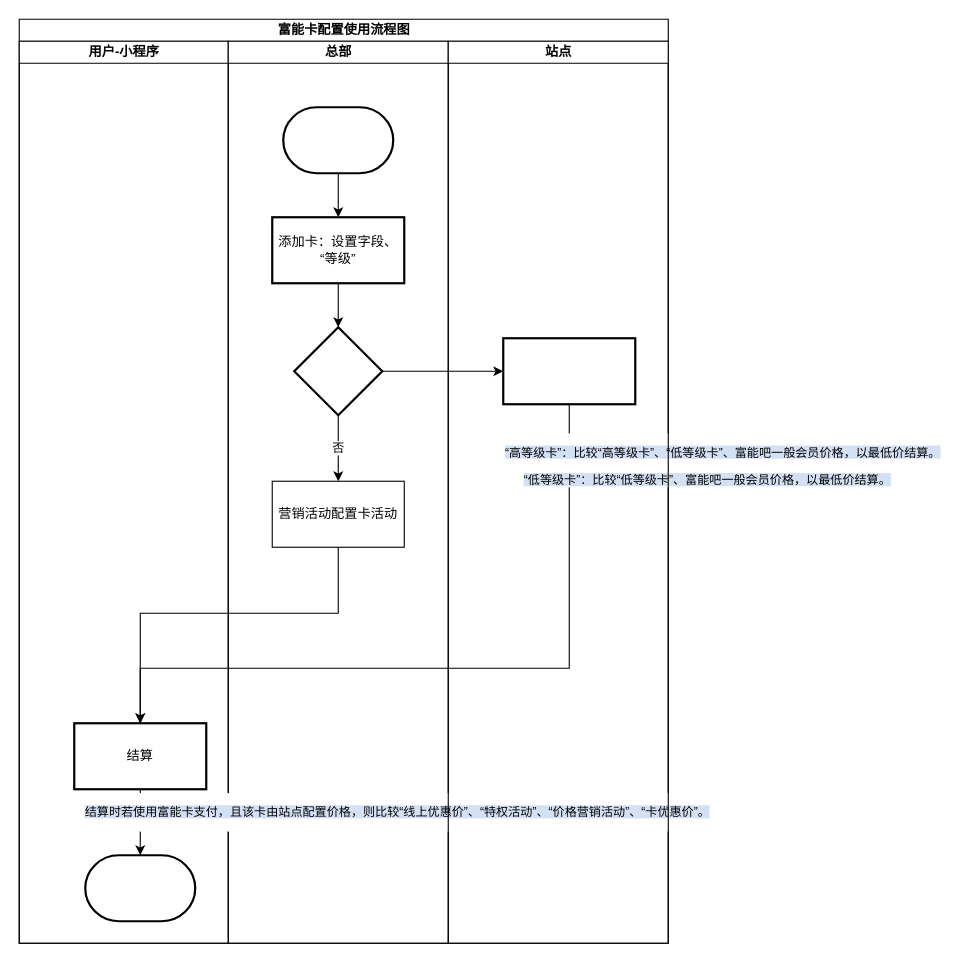
Image size: 960x963. Some labels were removed from this diagram. The shapes that lost their labels are listed below. From the top down, each one's centre as x and y in pixels, then its label:
the point at 338,140: 开始
the point at 338,371: 站点是否可配置价格？
the point at 569,371: 设置价格
the point at 140,888: 结束
